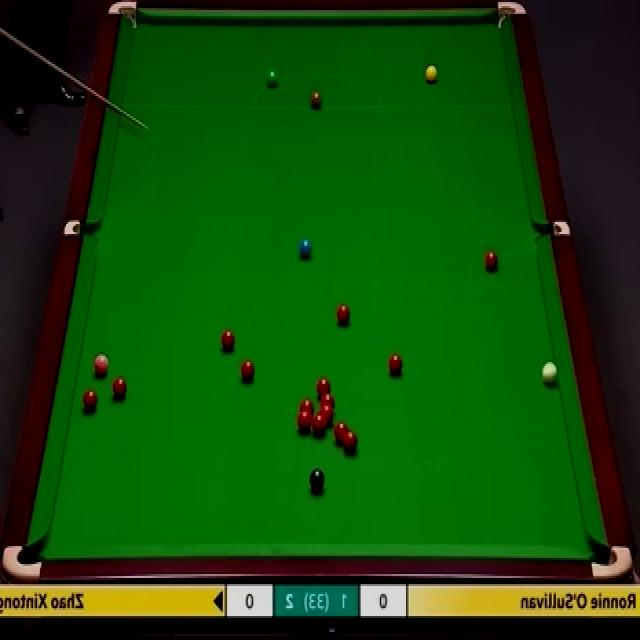black-ball: (309, 468, 326, 490)
blue-ball: (298, 238, 314, 260)
brown-ball: (310, 90, 324, 110)
green-ball: (266, 67, 278, 88)
pink-ball: (92, 354, 110, 377)
red-ball: (82, 388, 99, 411), (112, 374, 127, 400), (342, 428, 357, 454), (220, 328, 237, 350), (336, 302, 351, 326), (388, 352, 404, 374), (334, 421, 349, 444), (297, 409, 311, 433), (241, 359, 256, 381), (484, 250, 499, 271), (317, 376, 331, 398), (312, 414, 326, 436), (320, 393, 336, 411), (320, 405, 333, 425), (298, 397, 314, 413)
white-ball: (542, 362, 558, 386)
yellow-ball: (426, 65, 438, 86)
